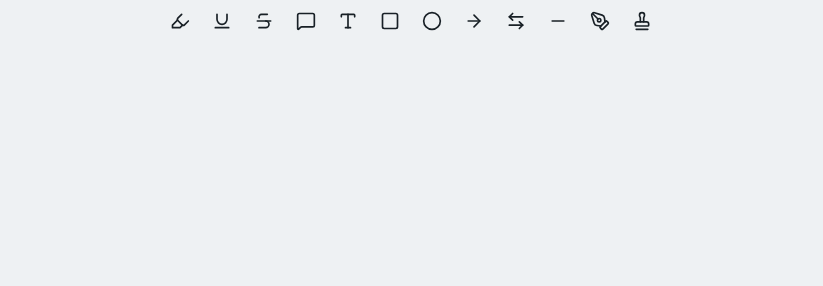
Test case: AnnotationToolbar › 激活图章工具时显示图章模板与文字输入框
Click the button named "图章" at (642, 21), box [626,4,658,38]
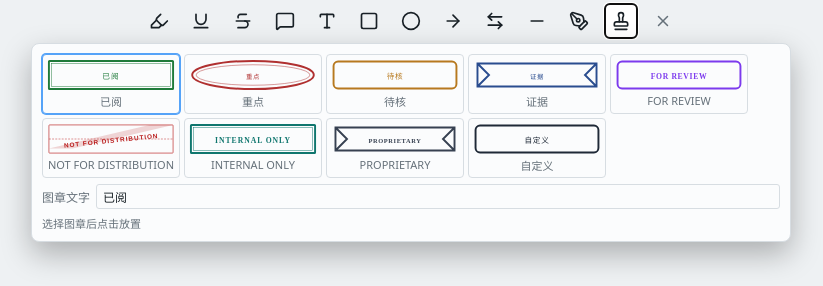
Result: the button "已阅 已阅" is shown at [42,54,180,114]
Result: the button "重点 重点" is shown at [184,54,322,114]
Result: the button "待核 待核" is shown at [326,54,464,114]
